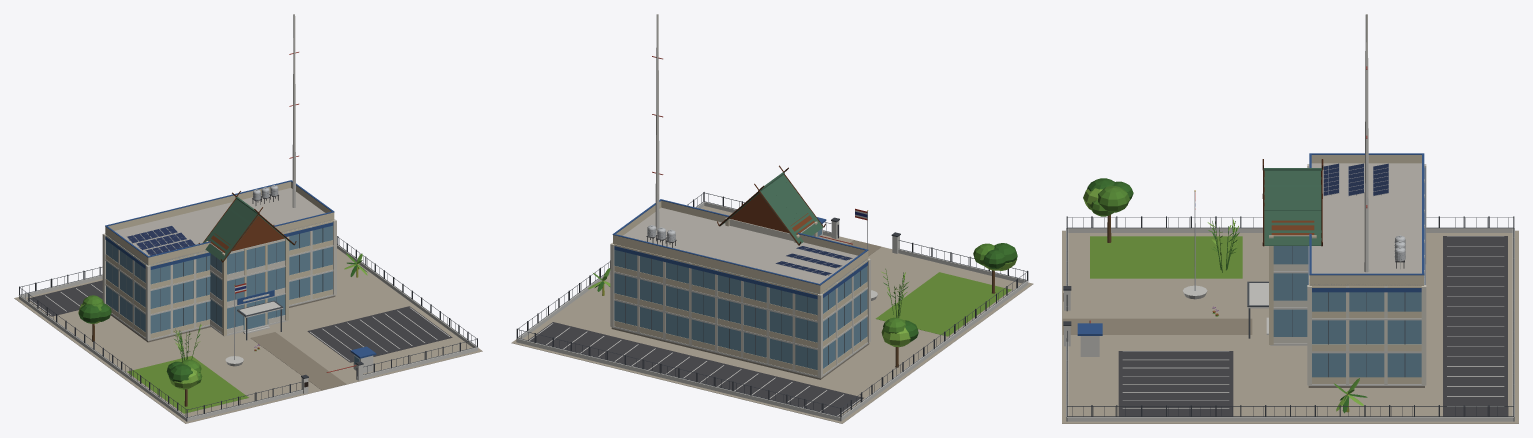
File: police.glb
3 views of the same model, side by side, from view 1: azimuth 30°, elevation 25°; view 2: azimuth 150°, elevation 25°; view 3: azimuth 270°, elevation 25° (orthographic). The views are drawn at different scales.
Parts seen in each view (by area): view 1: body; view 2: body; view 3: body.
Part boxes in pixels (x1,y1,x2,y2): body: (14,14,482,423); body: (511,14,1033,423); body: (1062,14,1518,423).
Size of the model in its own units: 47.9 by 42.03 by 47.9.
